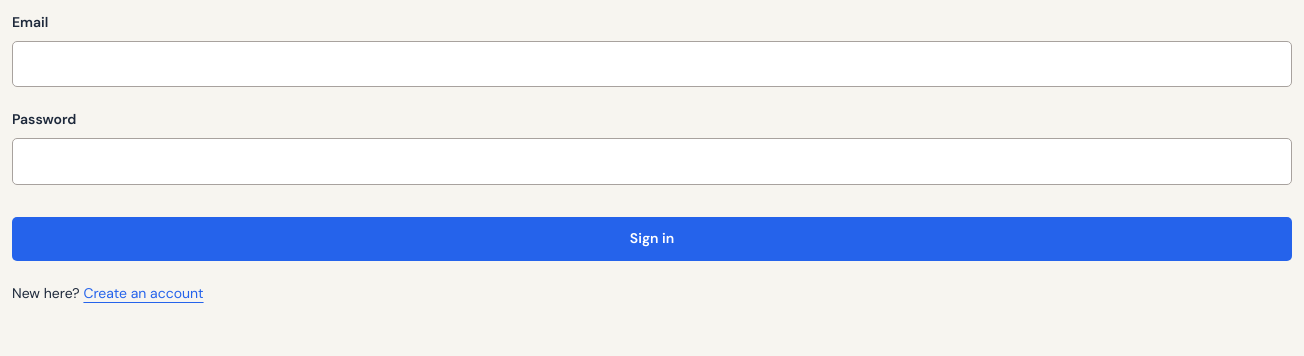
Test: shows a safe auth error without exposing server diagnostics
Type "person@example.test" into the field labelled "Email" at x=652, y=64, box [12,41,1292,88]
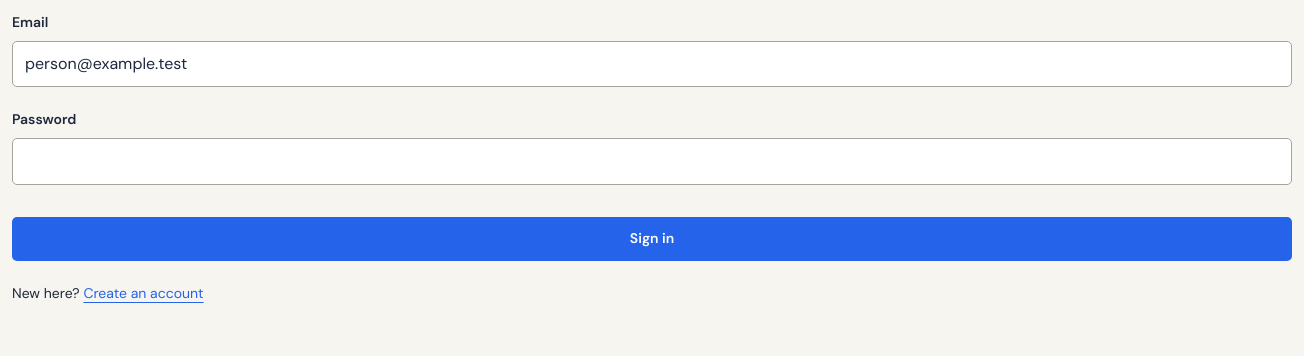
Type "password123" into the password field labelled "Password" at x=652, y=162, box [12,138,1292,185]
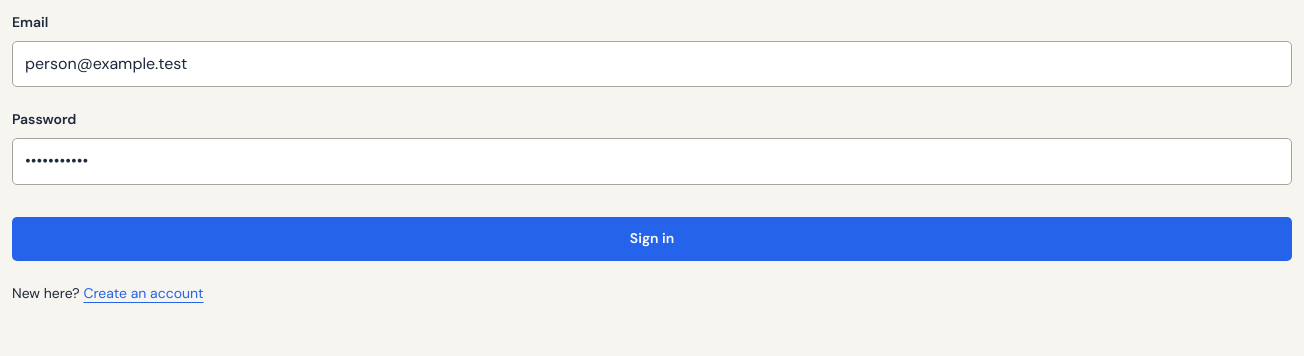
Submit the form "Sign in"
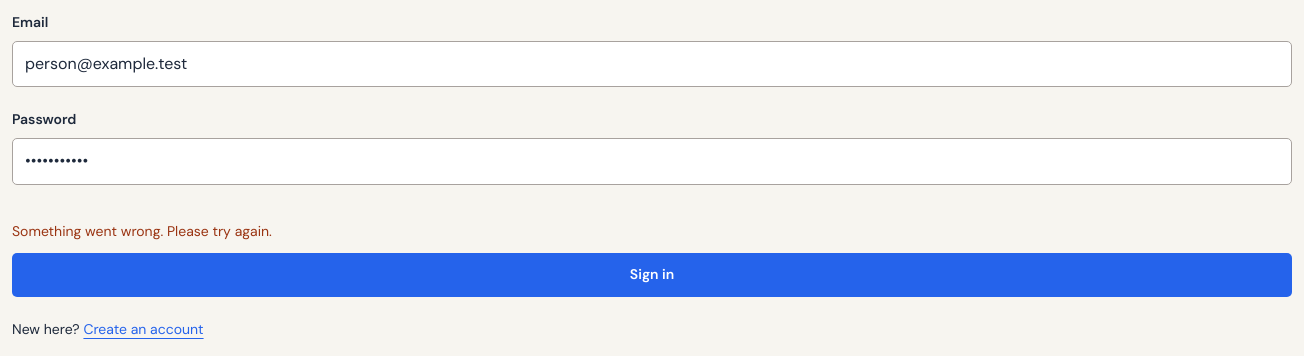
Expected: the message shows "try again", [12,222,272,240]
